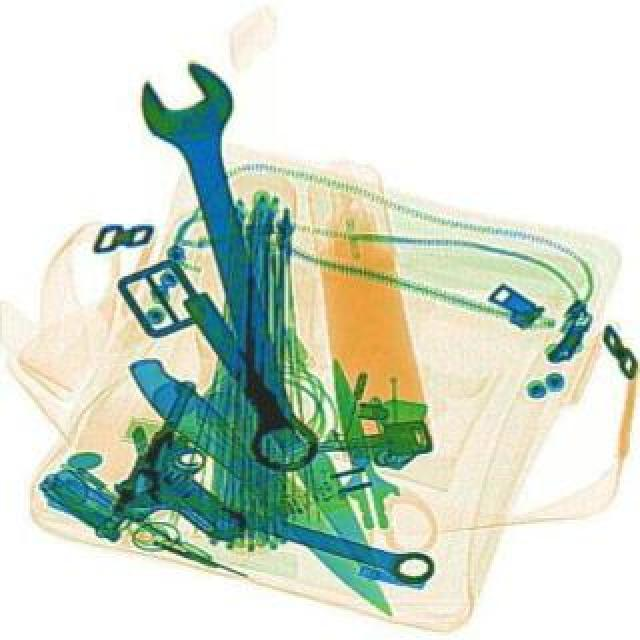gun: (108, 374, 294, 558)
knife: (116, 344, 408, 628), (178, 282, 396, 586), (300, 354, 404, 534)
scissors: (126, 54, 338, 482), (104, 458, 438, 592)
